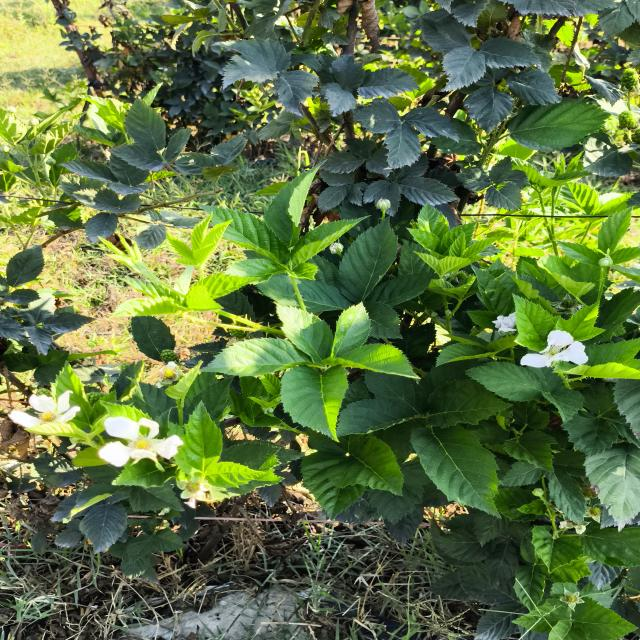boton: (376, 198, 391, 218), (328, 242, 344, 257)
flor: (98, 417, 183, 466), (9, 391, 80, 430), (521, 330, 588, 368), (493, 313, 517, 335)
